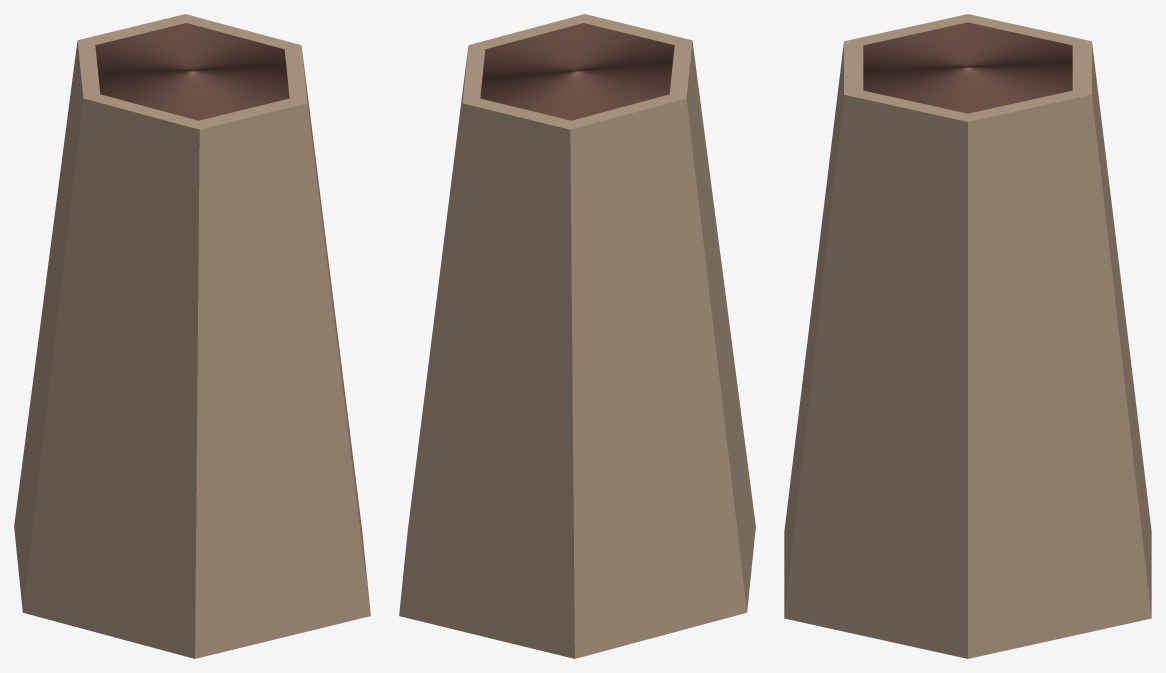
File: Stump.fbx
3 views of the same model, side by side, from view 1: azimuth 30°, elevation 25°; view 2: azimuth 150°, elevation 25°; view 3: azimuth 270°, elevation 25° (orthographic).
Visible parts, largest first — view 1: Plane.001, Plane.002; view 2: Plane.001, Plane.002; view 3: Plane.001, Plane.002.
Boxes of the visible parts, left/top/right/bottom form: Plane.001: left=14, top=14, right=370, bottom=658; Plane.002: left=95, top=23, right=289, bottom=120; Plane.001: left=399, top=14, right=755, bottom=658; Plane.002: left=480, top=23, right=674, bottom=120; Plane.001: left=784, top=14, right=1151, bottom=658; Plane.002: left=863, top=22, right=1072, bottom=113.
Bounding box in the file's own units: 278 × 391 × 257.
